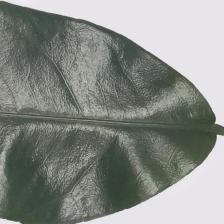healthy: (0, 6, 180, 224)
